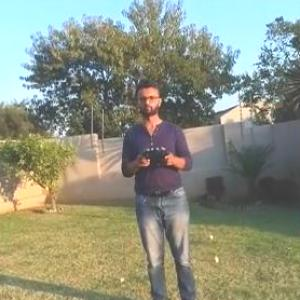follow: (114, 74, 201, 299)
